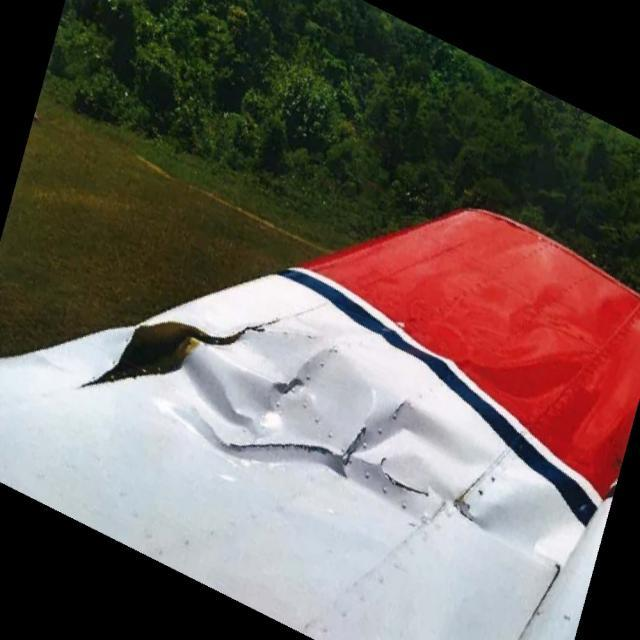crack: (233, 421, 368, 484), (368, 456, 425, 505), (390, 399, 404, 413)
